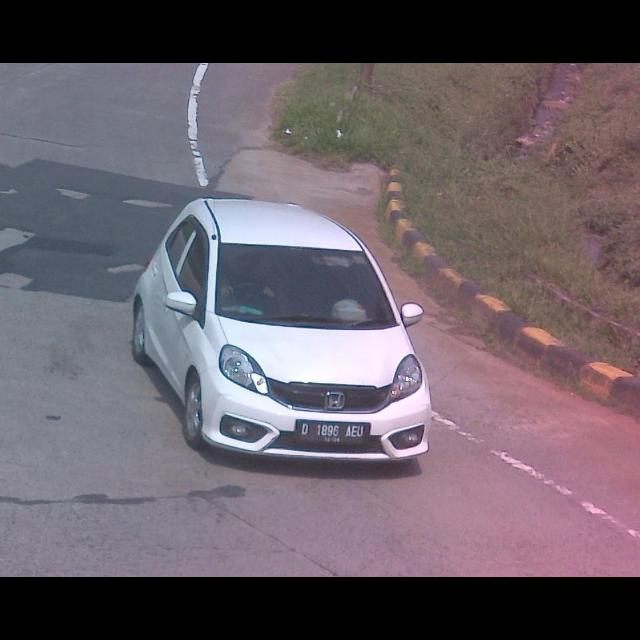plate: (293, 418, 371, 445)
